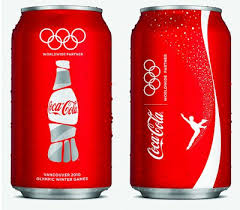coke-can: (128, 2, 240, 205), (8, 1, 115, 210)
